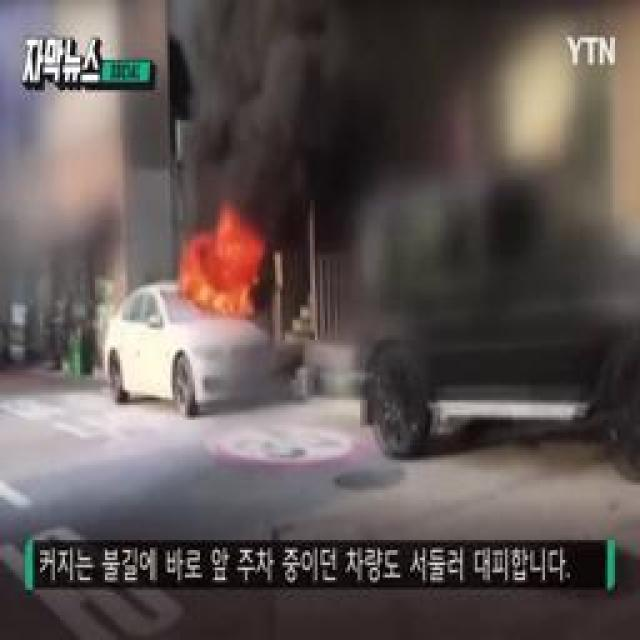Fire: (179, 240, 259, 315)
